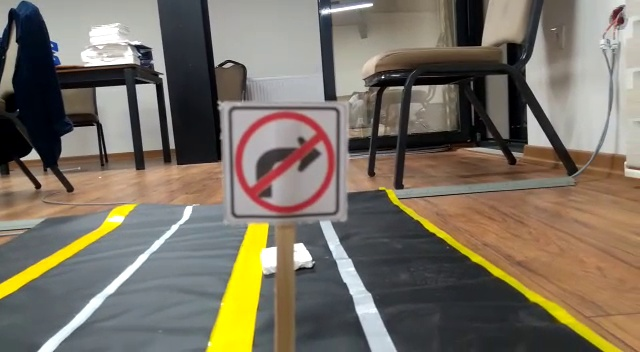saga_donulmez: (229, 107, 340, 216)
